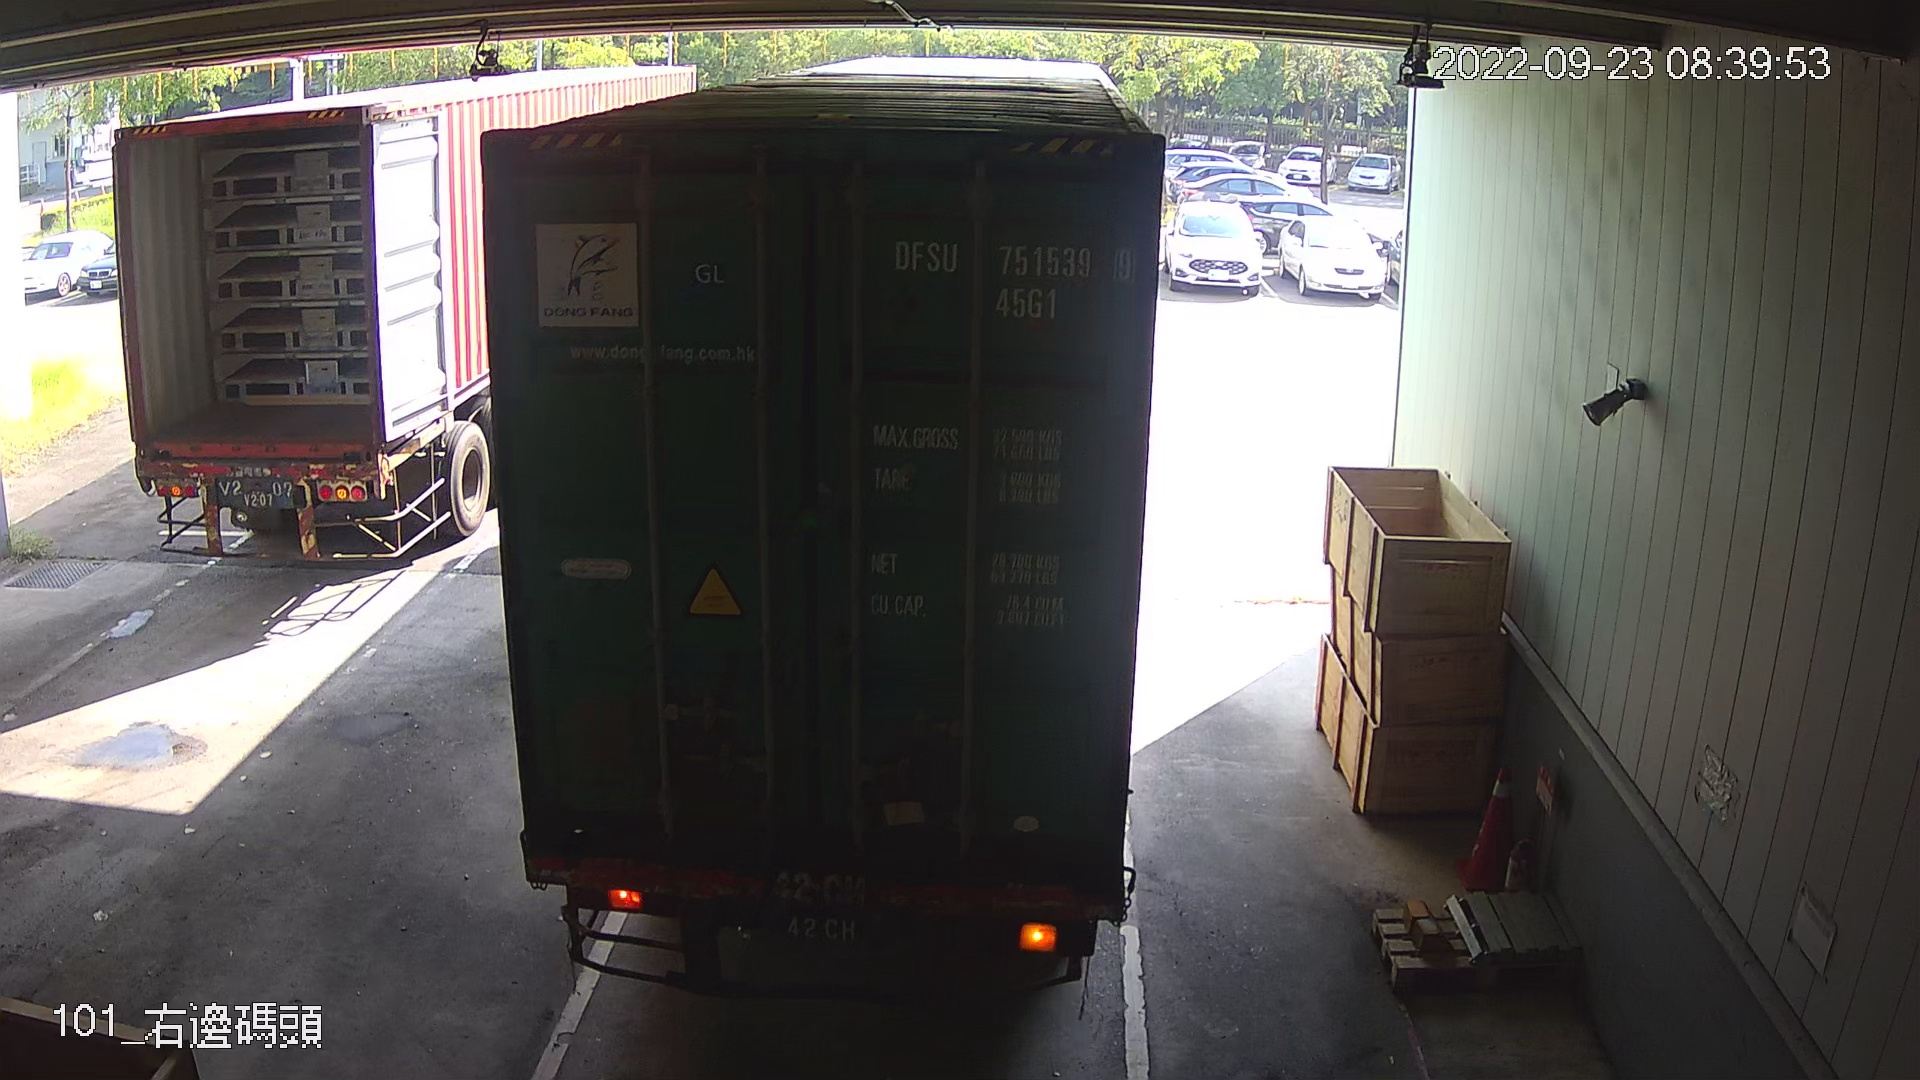container: (881, 223, 1145, 335)
